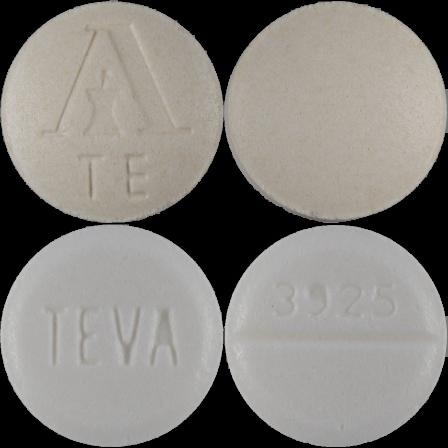50090-0190: (0, 0, 224, 224)
